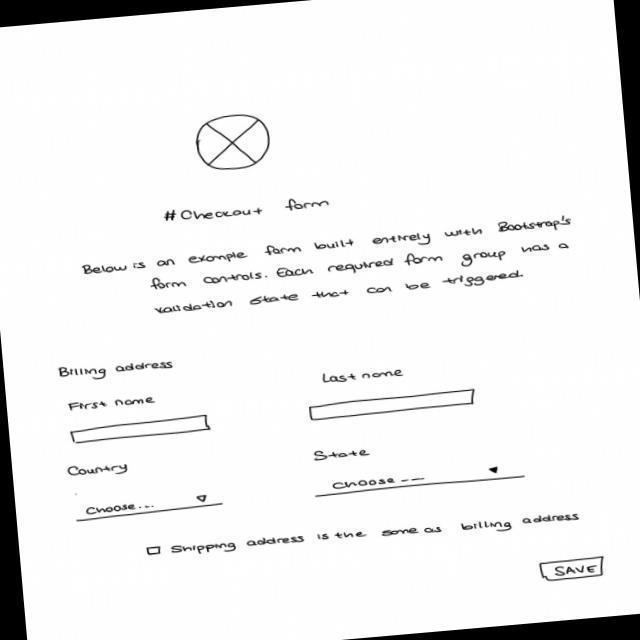button: (538, 556, 606, 583)
checkbox: (144, 508, 583, 563)
image: (193, 111, 274, 174)
input: (307, 388, 478, 424), (70, 414, 213, 446)
label: (161, 195, 331, 224), (57, 357, 176, 385), (320, 365, 410, 386), (67, 395, 160, 413), (67, 461, 132, 481), (309, 446, 372, 464)
select: (314, 464, 527, 499), (75, 492, 226, 523)
textbox: (81, 214, 579, 322)
